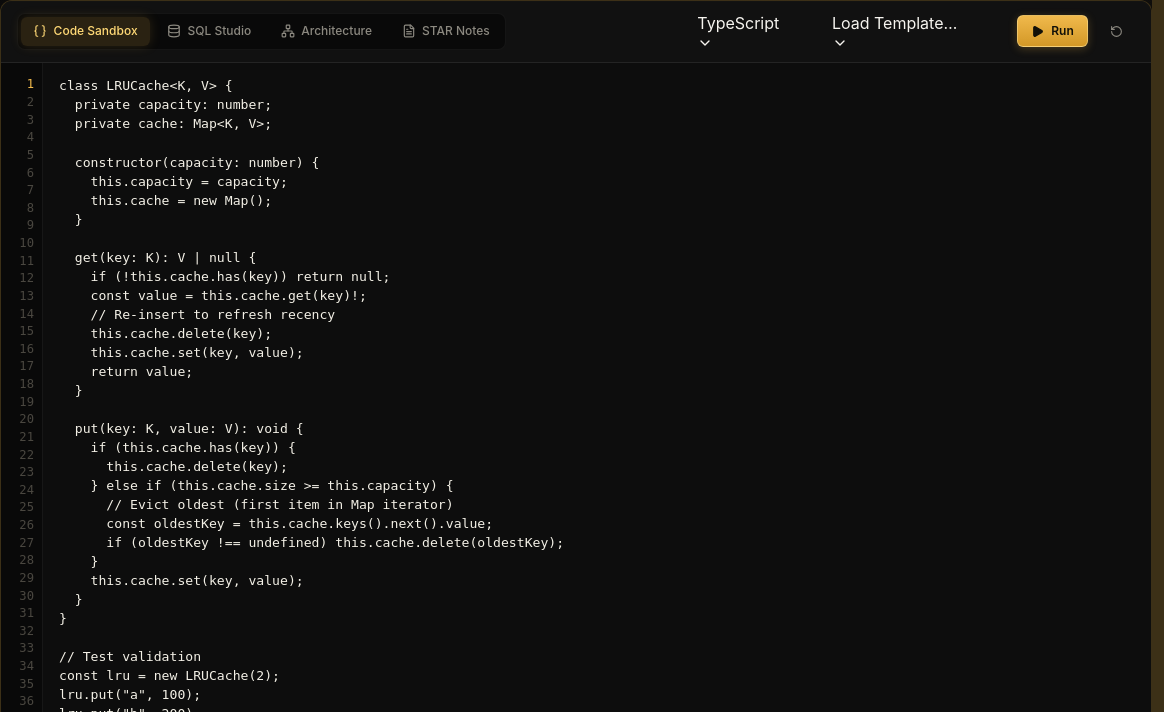
Test: ScratchpadStudio › switches to SQL studio when clicking the SQL tab
The image size is (1164, 712).
Click the tab "SQL Studio": (209,31) [155,17,263,46]
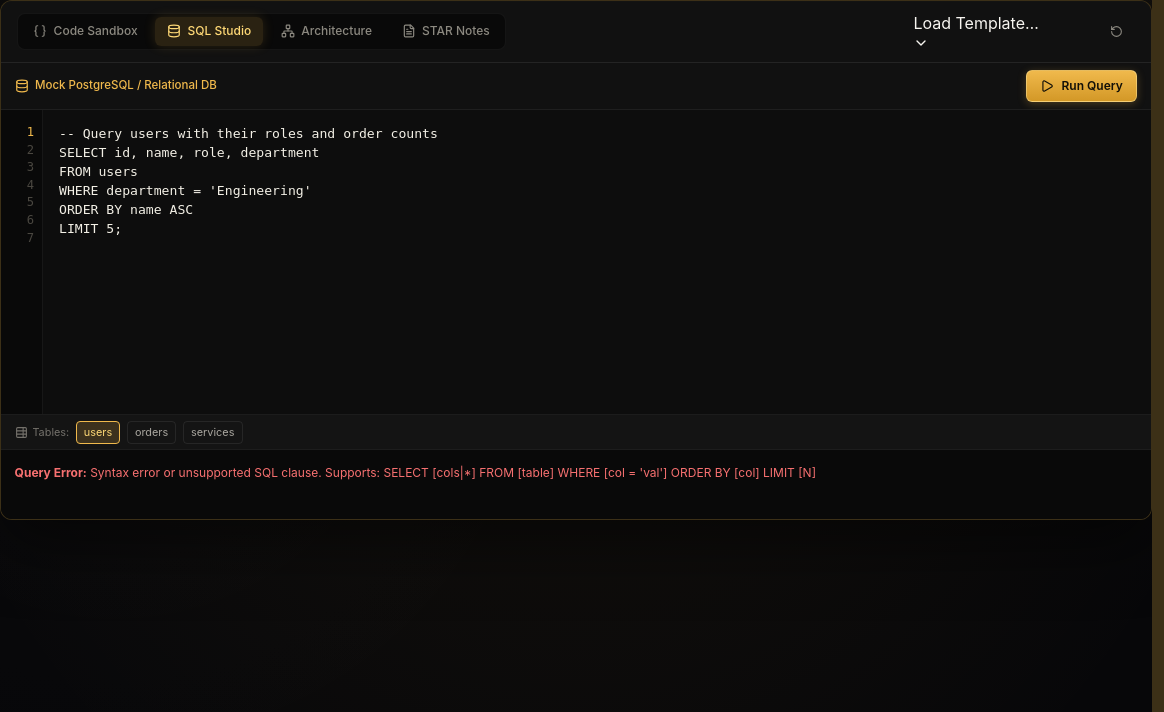
Result: the text "Mock PostgreSQL / Relational DB" is shown at [35,77,217,95]
Result: the button "Run Query" is shown at [1026,70,1138,102]
